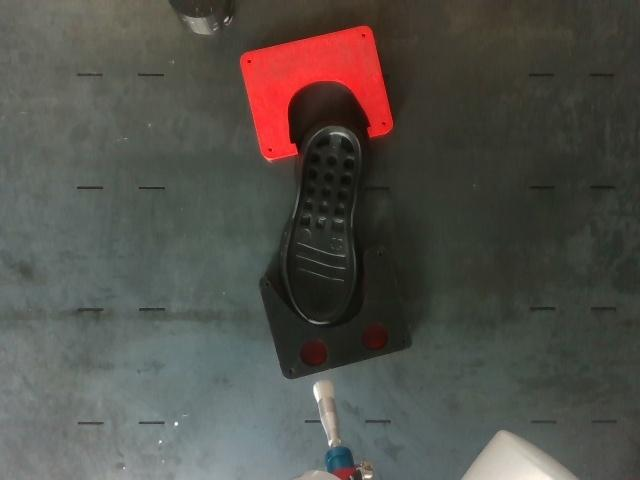shoes: (286, 126, 360, 324)
